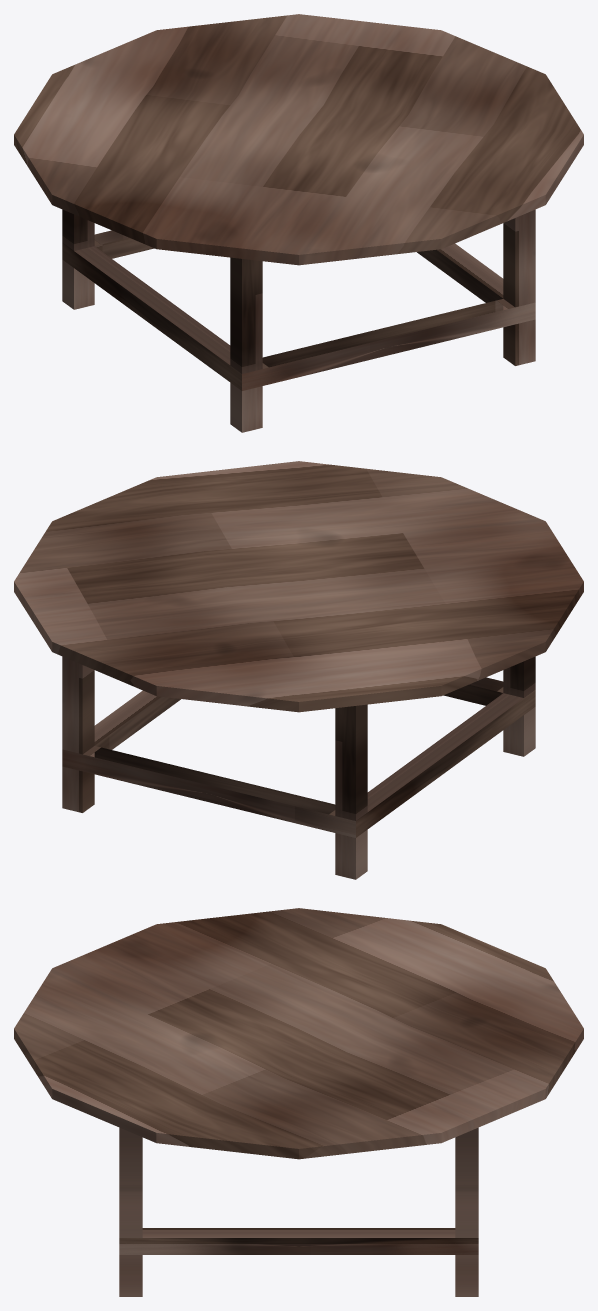
File: circletable(textured).fbx
3 views of the same model, one above another, from view 1: azimuth 30°, elevation 25°; view 2: azimuth 150°, elevation 25°; view 3: azimuth 270°, elevation 25° (orthographic).
Visible parts, largest first — view 1: Circle.001; view 2: Circle.001; view 3: Circle.001.
Boxes of the visible parts, <box> form: Circle.001: <box>14,14,583,432</box>; Circle.001: <box>14,461,583,879</box>; Circle.001: <box>14,908,583,1296</box>.
Bounding box in the file's own units: 205 × 77.91 × 205.
Materials: 1 (1 with a texture image).
